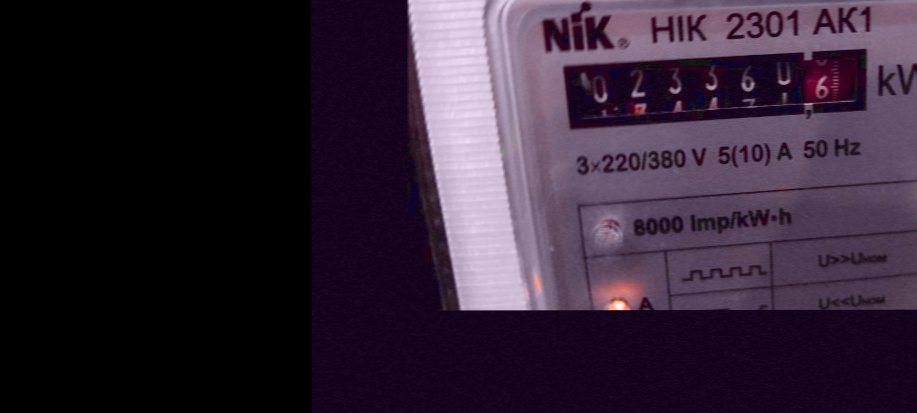0: (588, 72, 610, 106), (771, 58, 793, 89)
2: (627, 67, 647, 100)
3: (701, 60, 720, 93), (663, 66, 682, 97)
6: (736, 62, 757, 95), (811, 71, 832, 104)
screen: (546, 41, 884, 136)
